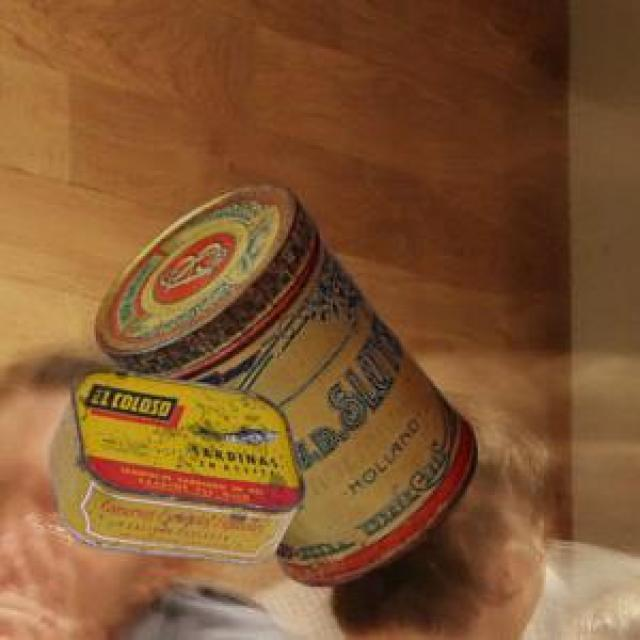Can: (93, 180, 473, 583), (46, 366, 302, 562)
